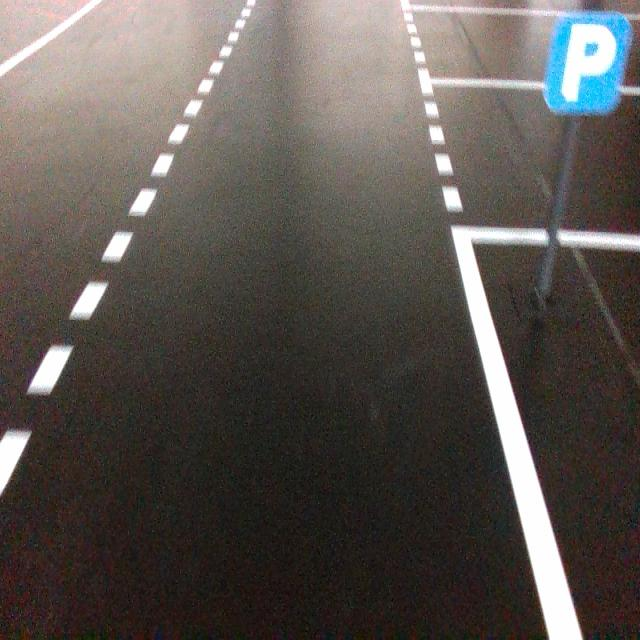parking-sign: (542, 10, 634, 117)
